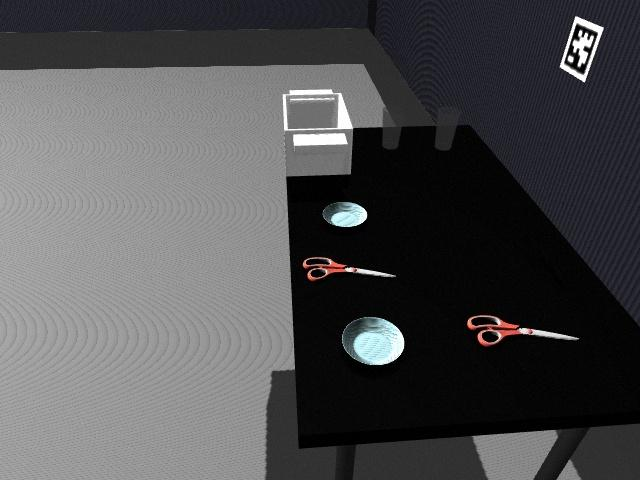cup: (434, 107, 460, 152), (381, 106, 401, 151)
plate: (341, 316, 406, 366), (320, 200, 368, 228)
scissors: (466, 313, 580, 348), (304, 255, 394, 282)
